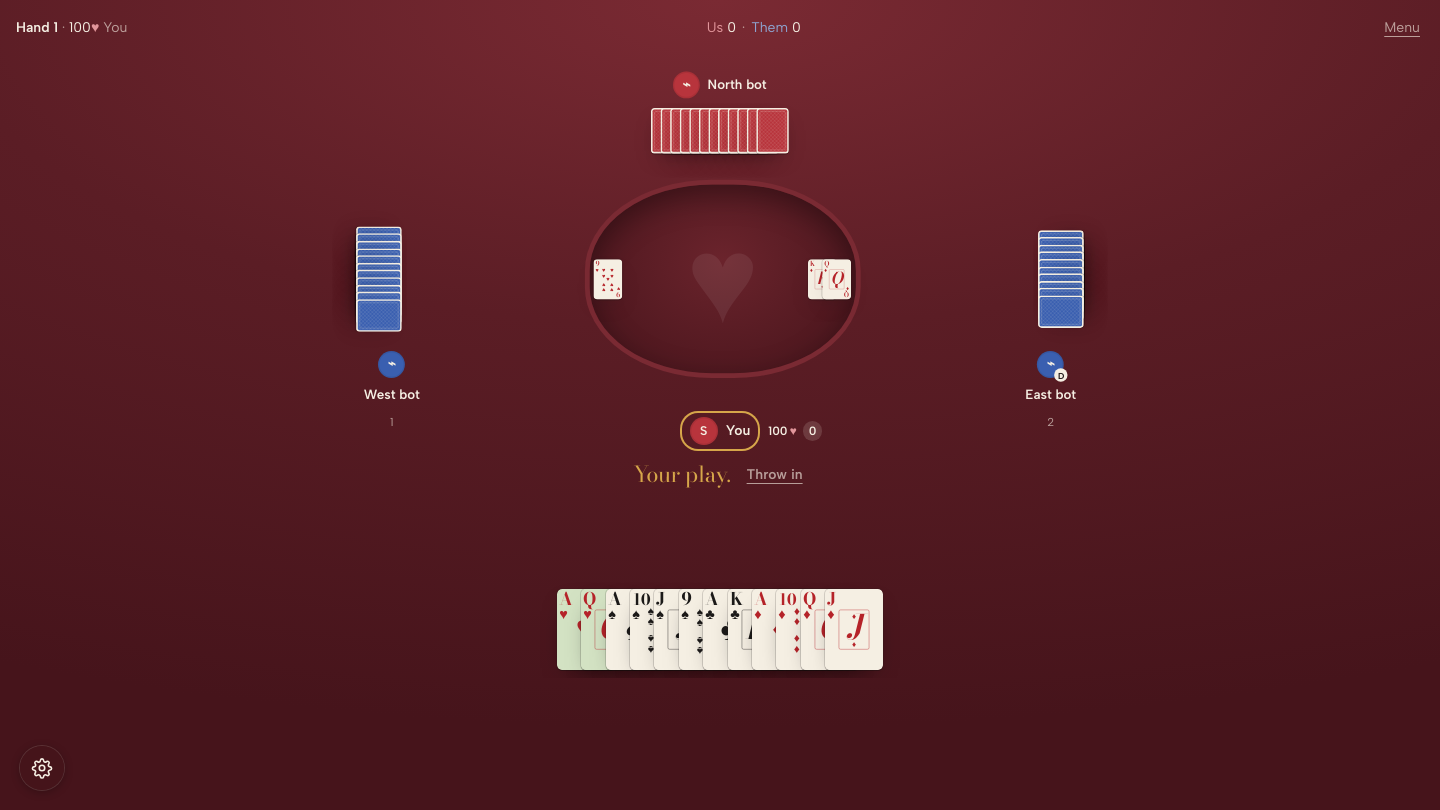
Test: accessible names and states at the table › play-concede: throwing in asks first, and Keep playing takes the question back
The width and height of the screenshot is (1440, 810).
Expected: the button "Keep playing" is not shown
Click the button "Throw in" at (775,475), box [739,453,811,497]
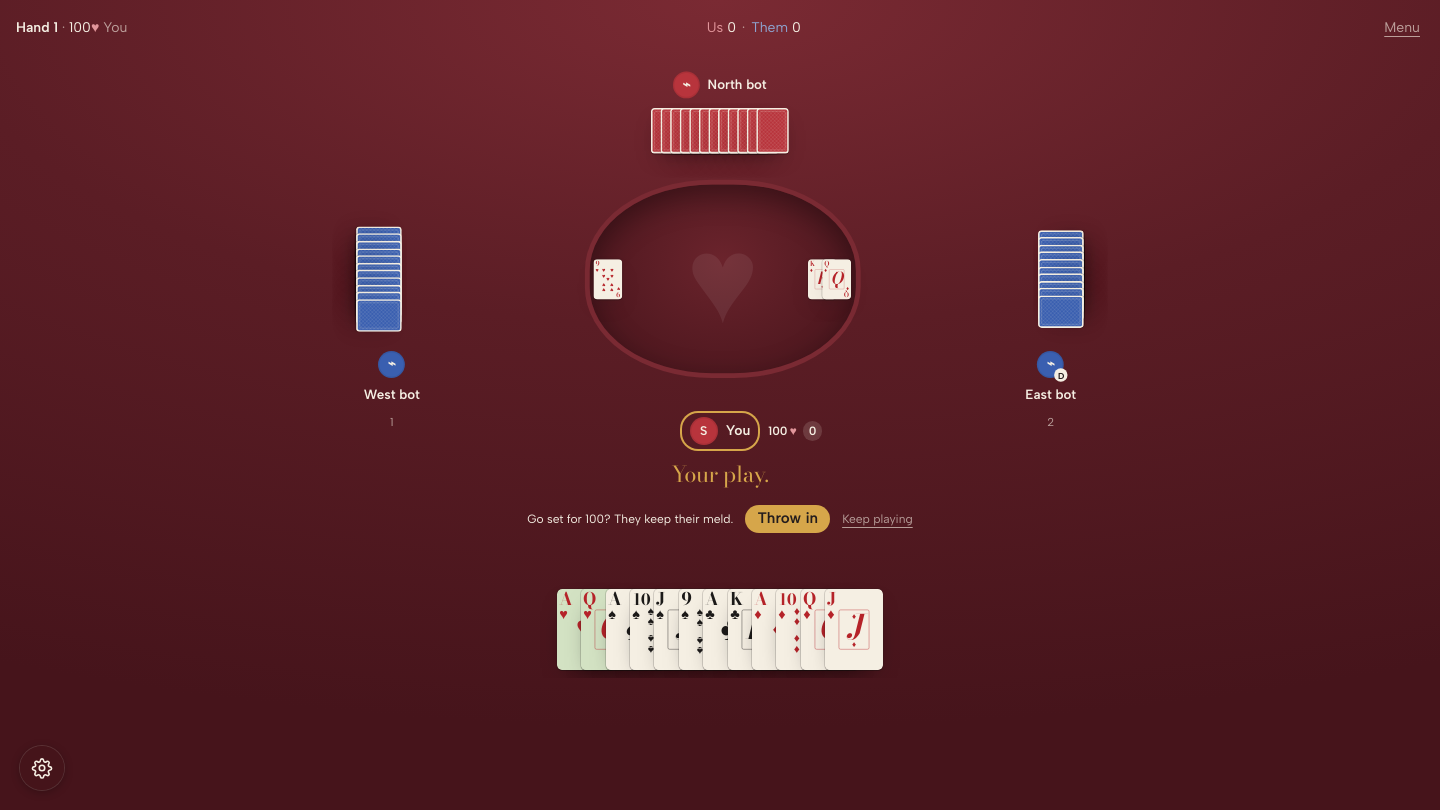
Now the text "Go set for 100? They keep their meld." is shown, box [527,509,733,529]
Now the number of buttons "Throw in" is 1, box [745,505,830,533]
Click the button "Keep playing" at (877,519), box [842,511,913,527]
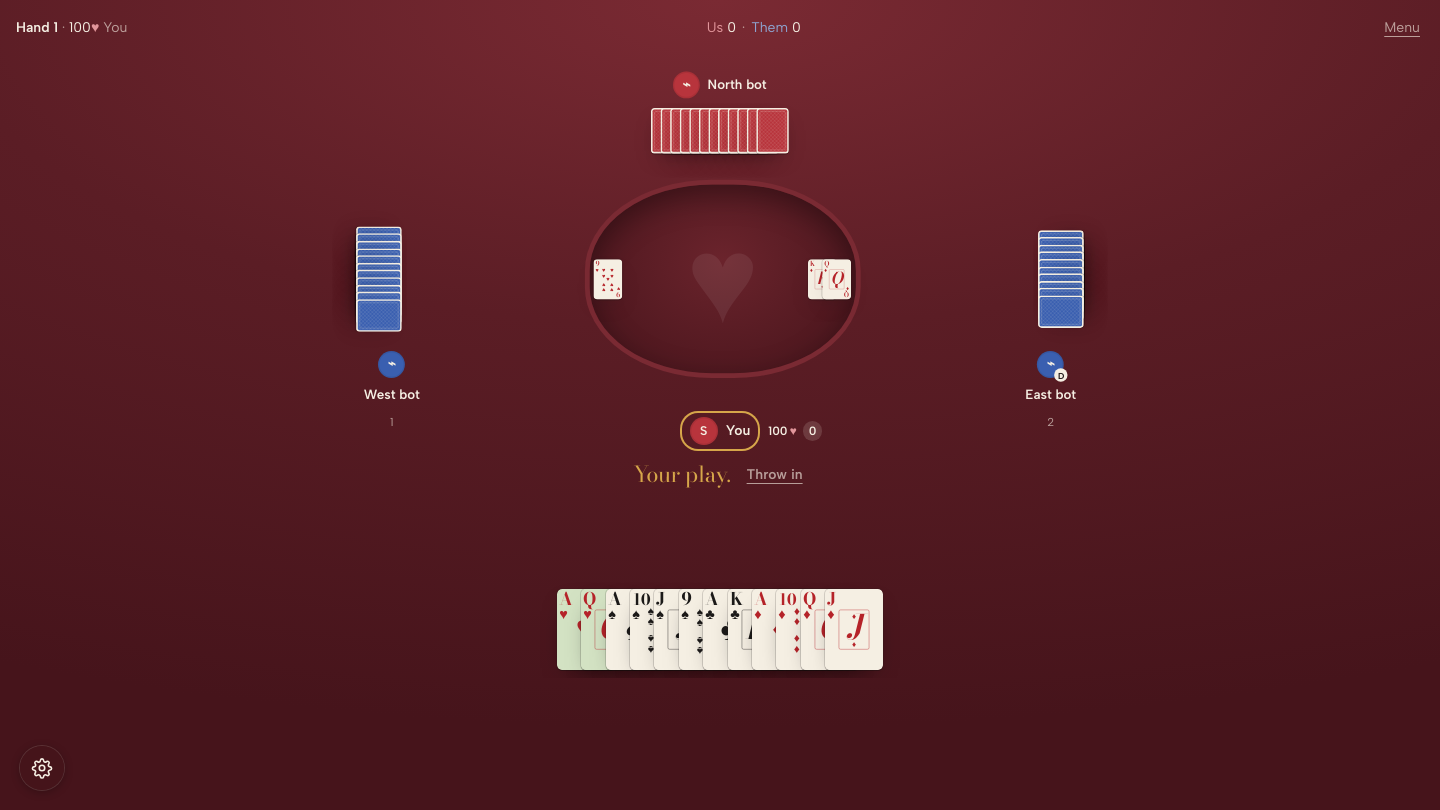
Now the text "Go set for" is gone
